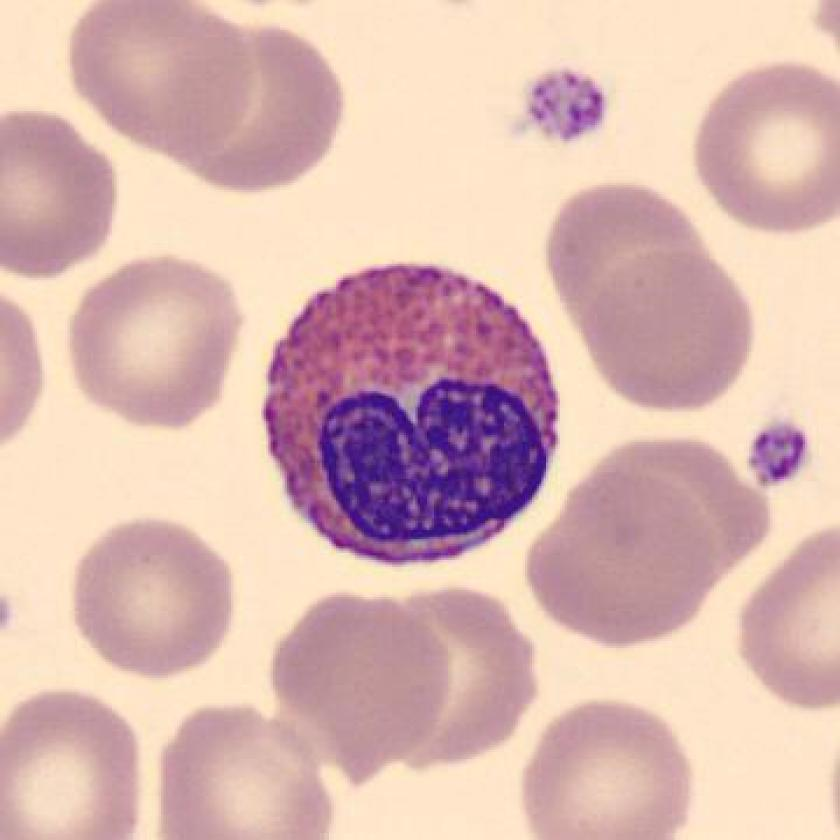eosinophil: (246, 253, 575, 575)
